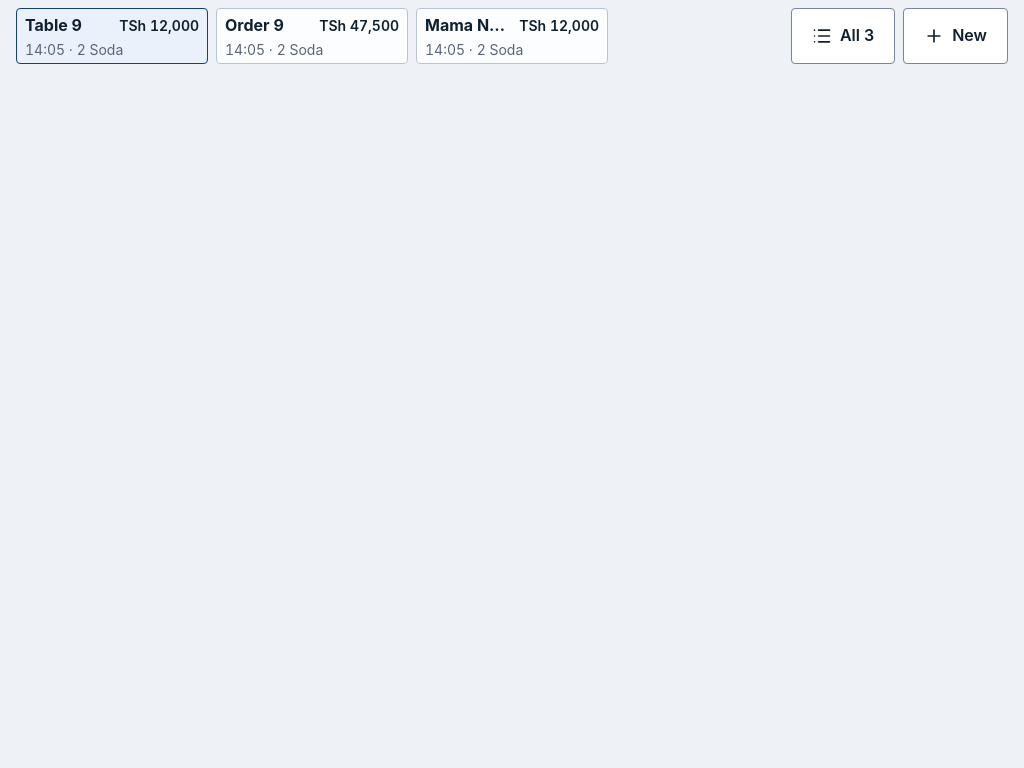
Test: OpenOrdersBar (owner, 2026-10-21) › All opens every open order in full; one tap moves the ticket there, Back leaves it
Click the button with aria-label "All 3 open orders" at {"x": 843, "y": 36}, box top-left (791, 8), bottom-right (895, 64)
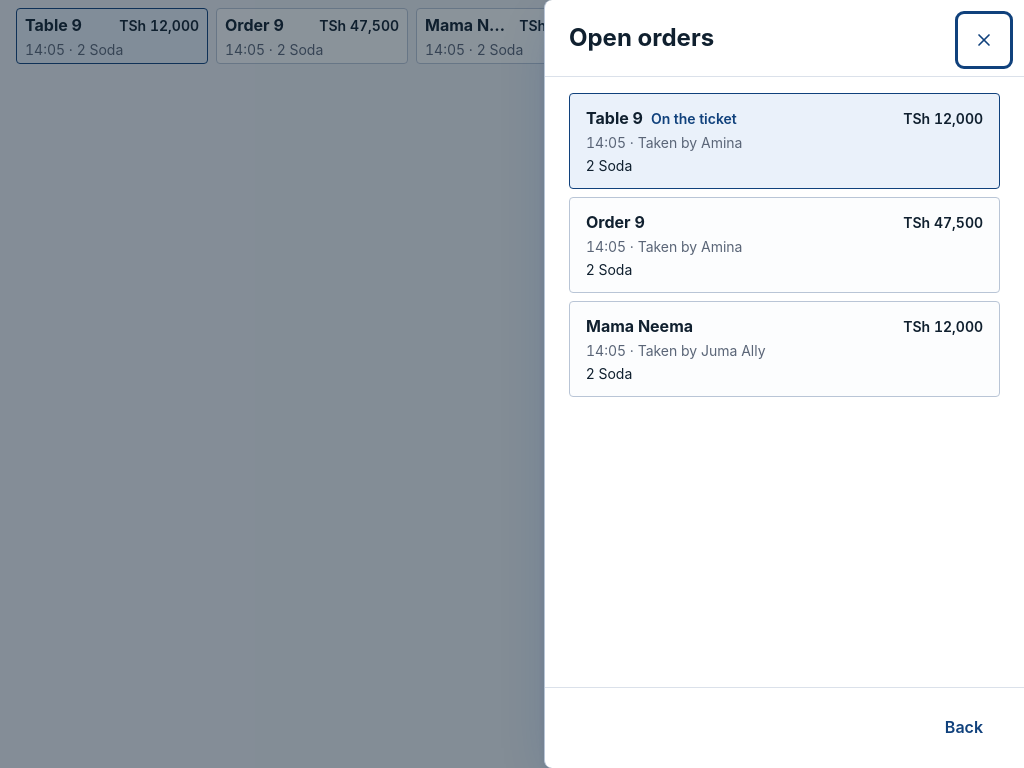
Result: the button that starts with "Table 9" shows "On the ticket" at top-left (569, 93), bottom-right (1000, 189)
Result: the button "Order 9 TSh 47,500 14:05 · Taken by Amina 2 Soda" is shown at top-left (569, 197), bottom-right (1000, 293)
Result: the button "Mama Neema TSh 12,000 14:05 · Taken by Juma Ally 2 Soda" is shown at top-left (569, 301), bottom-right (1000, 397)
Click the button "Back" at {"x": 964, "y": 728}, box top-left (928, 704), bottom-right (1000, 752)
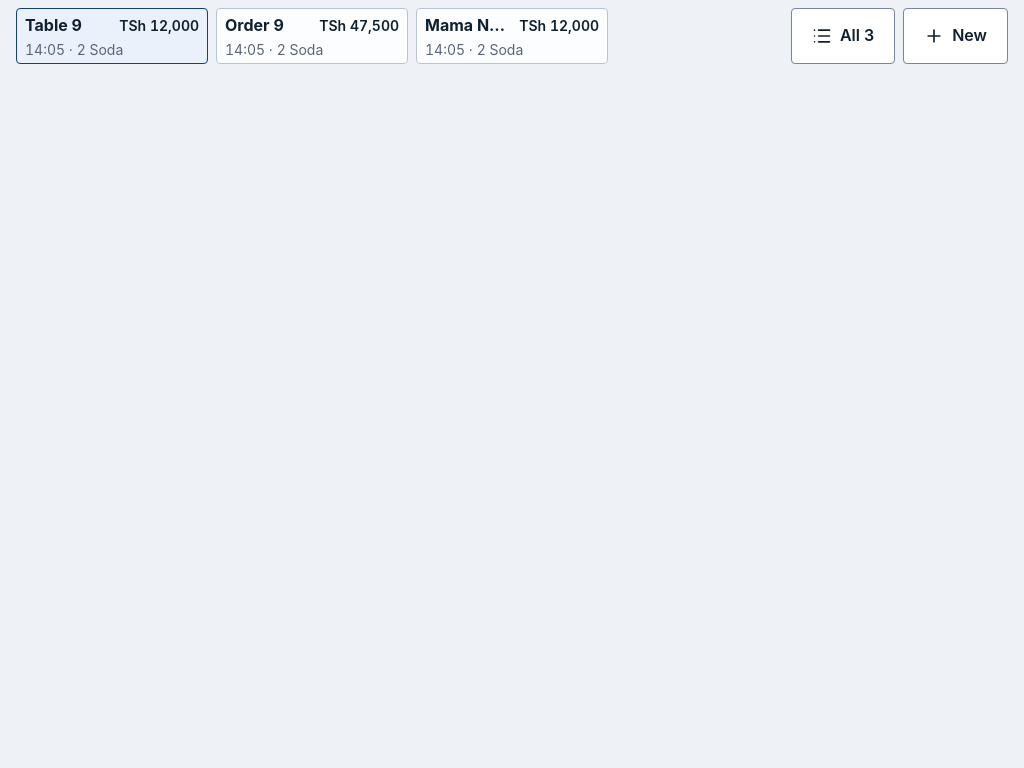
Result: the heading "Open orders" is gone
Click the button with aria-label "All 3 open orders" at {"x": 843, "y": 36}, box top-left (791, 8), bottom-right (895, 64)
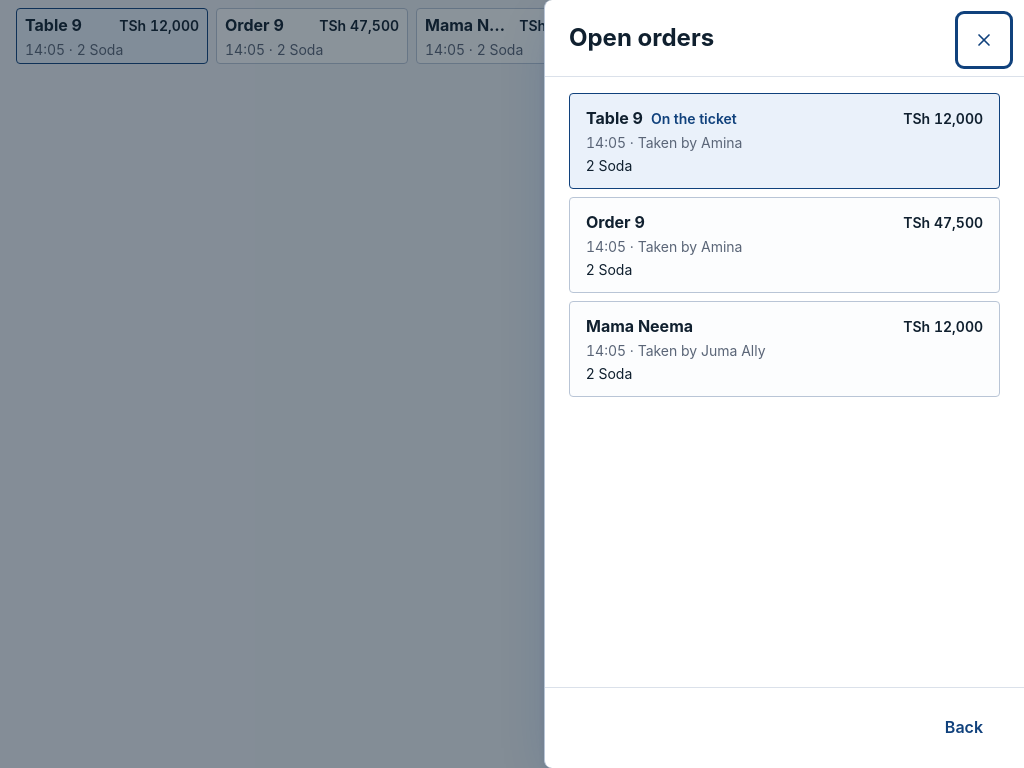
Click the button with test id "open-order-row-o9" at {"x": 615, "y": 222}, box top-left (569, 197), bottom-right (1000, 293)
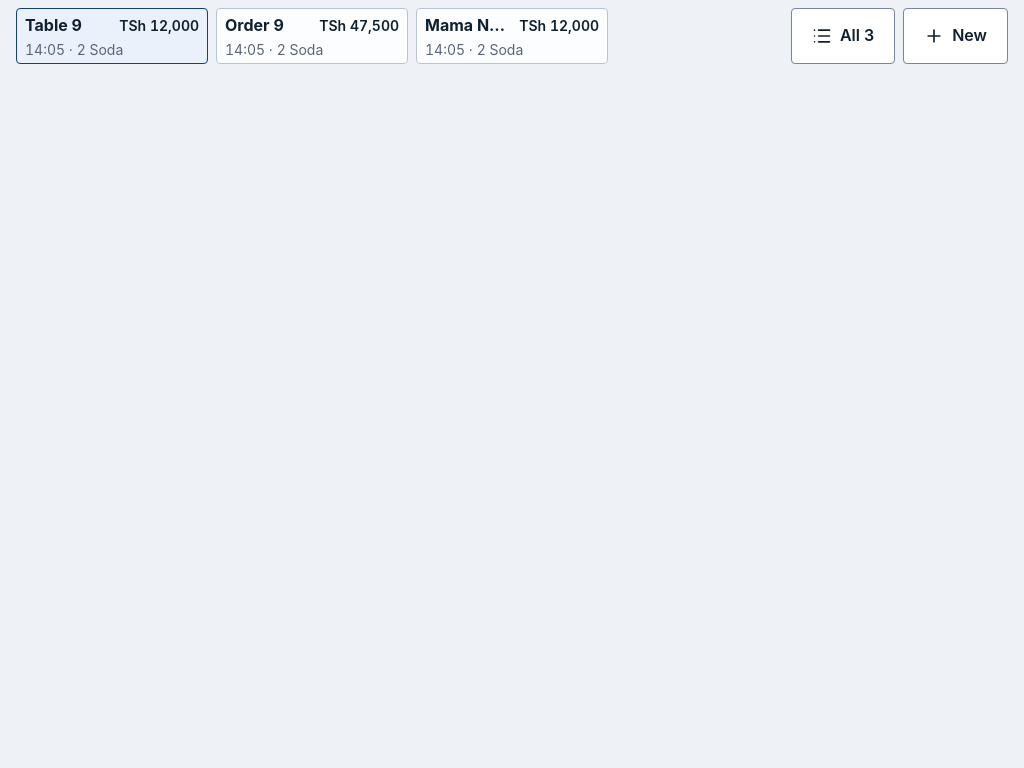
Result: the heading "Open orders" is gone
